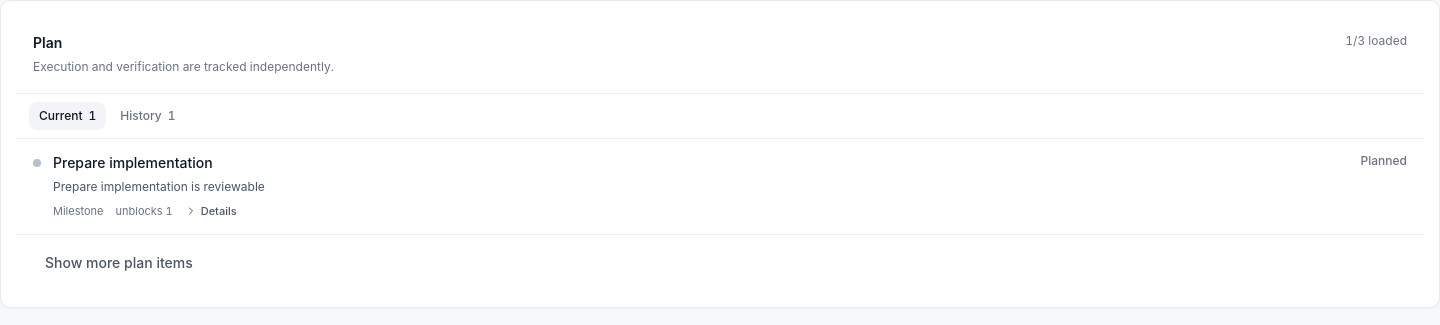
Test: surfaces an incomplete terminal pagination response as inconsistent
What coordinates should you click on to do the following:
click the button "Show more plan items"
I would click on:
 (119, 262)
Its box is left=33, top=246, right=205, bottom=278.
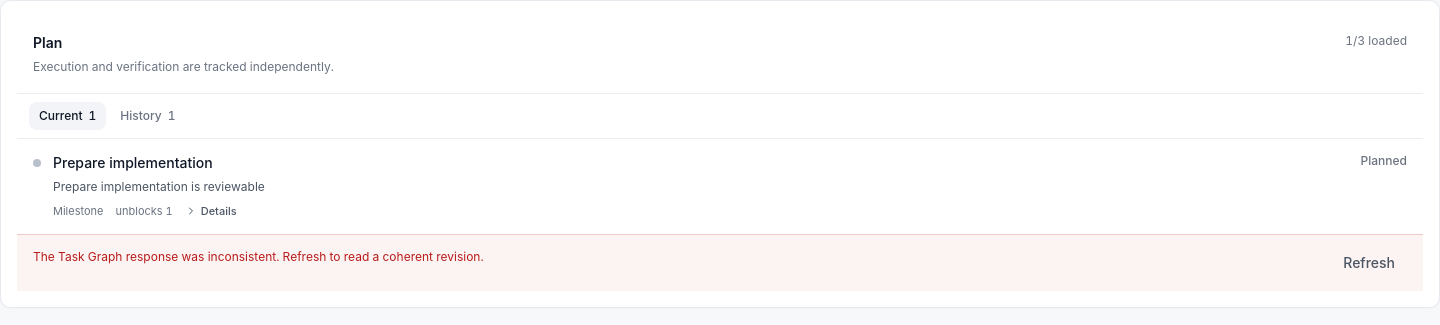
Check: the message shows "inconsistent", box left=33, top=248, right=484, bottom=264
